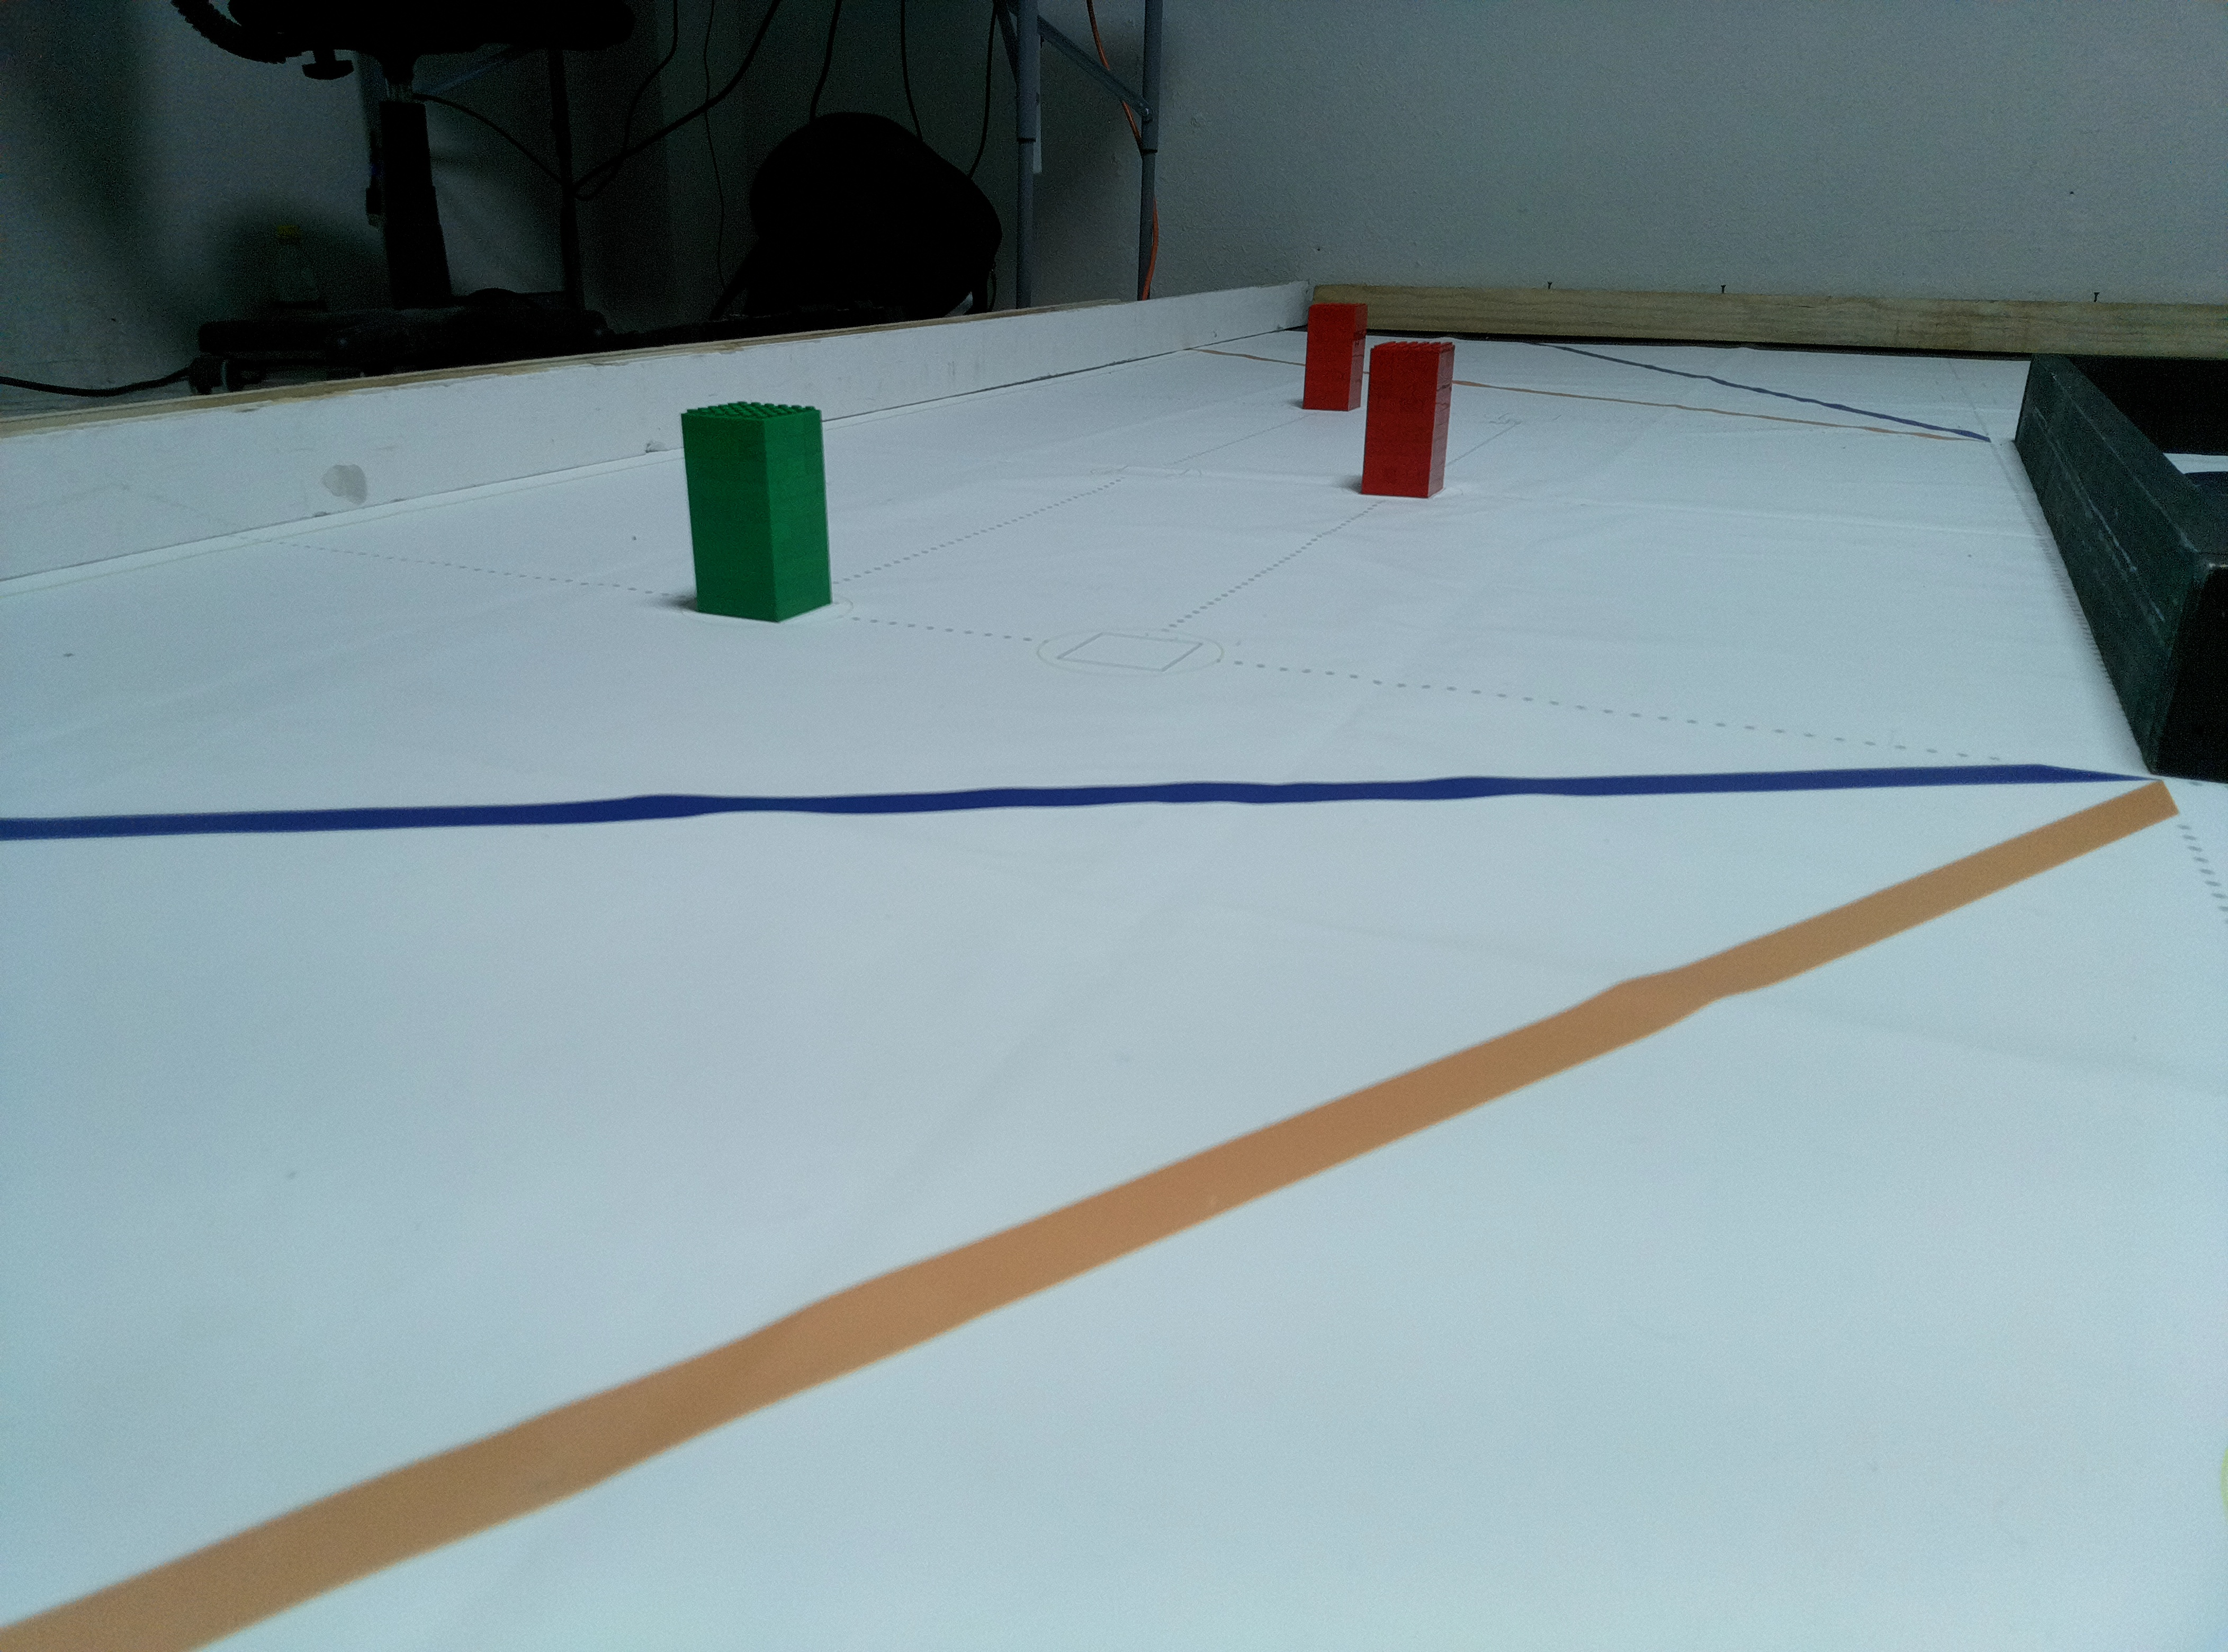greenbox: (680, 397, 836, 628)
redbox: (1360, 338, 1456, 498), (1300, 302, 1367, 411)
